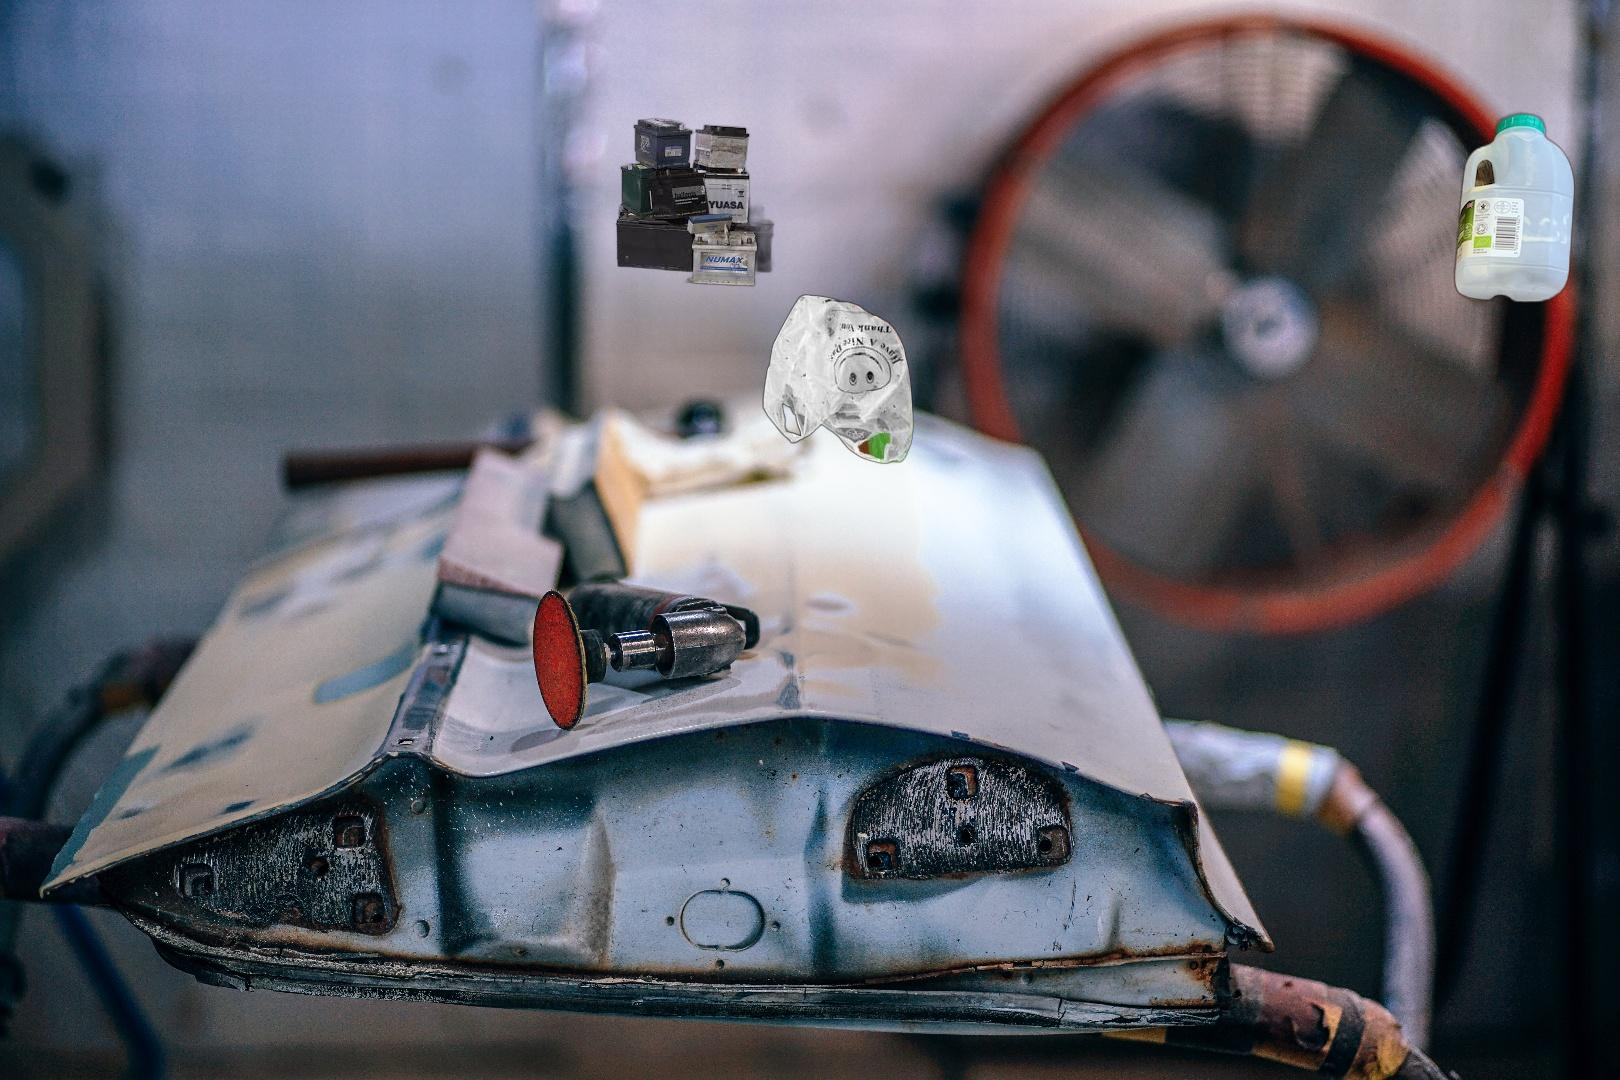battery: (614, 116, 780, 289)
plastic-bag: (761, 292, 916, 466)
plastic-bottles: (1449, 107, 1579, 311)
